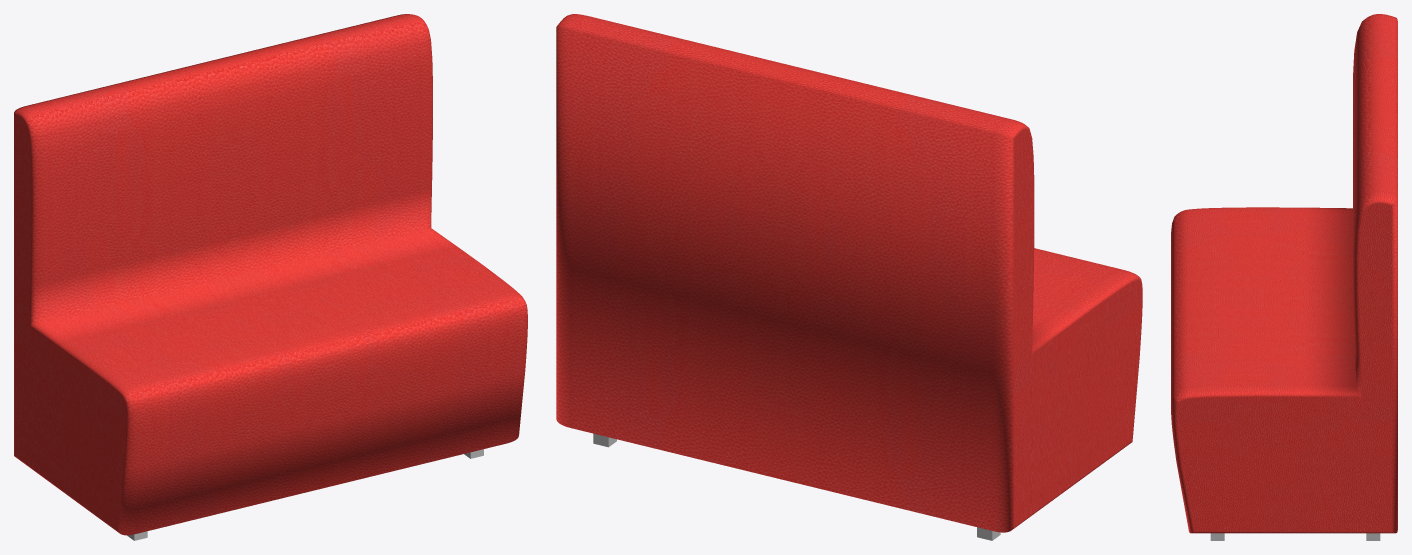
Rendered from Couch.FBX.
The picture shows the model from 3 angles, left to right: view 1: azimuth 30°, elevation 25°; view 2: azimuth 150°, elevation 25°; view 3: azimuth 270°, elevation 25°; orthographic projection. The views are drawn at different scales.
Parts seen in each view (by area): view 1: couch; view 2: couch; view 3: couch.
Boxes of the visible parts, x1,y1,x2,y2 form: couch: (14, 14, 527, 540); couch: (556, 14, 1142, 540); couch: (1171, 14, 1397, 540).
Bounding box in the file's own units: 129 × 114 × 66.04.
